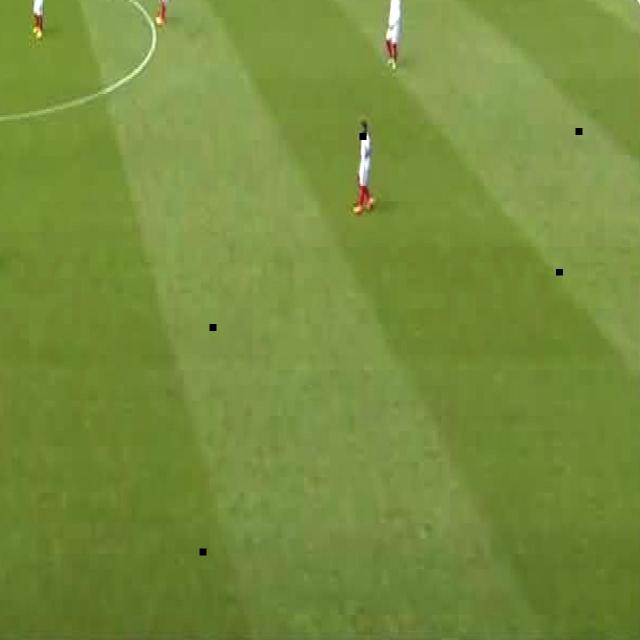player-white: (352, 120, 374, 212), (386, 0, 400, 71), (31, 0, 44, 38), (150, 0, 171, 23)
